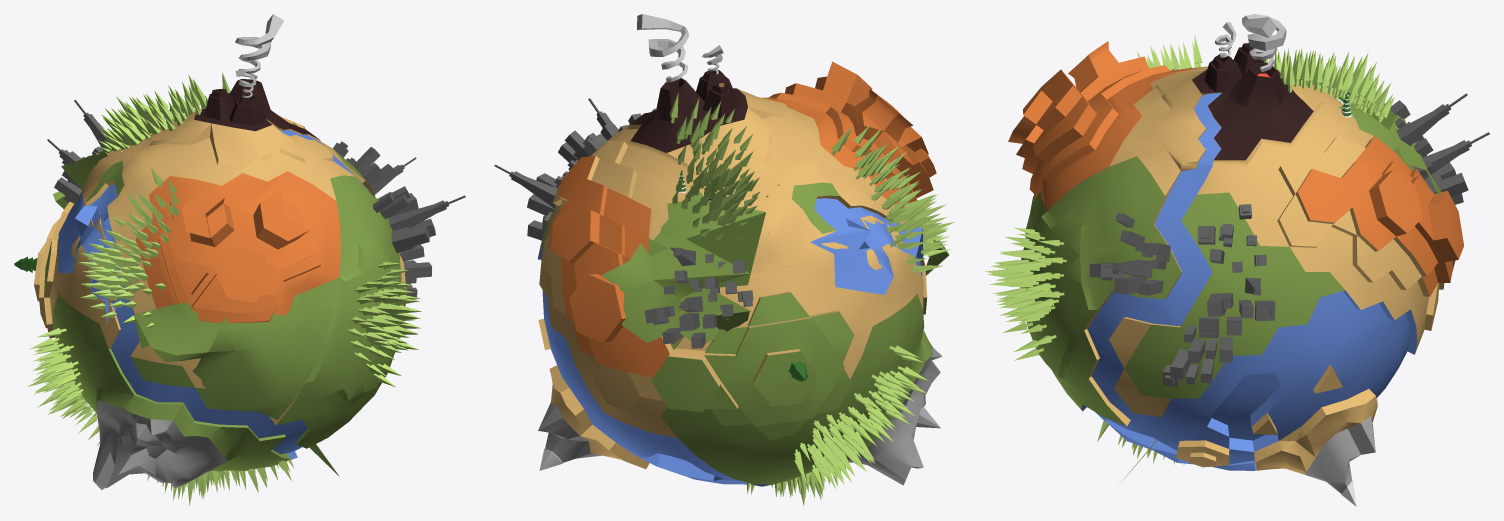
3 renders of one model, left to right at view 1: azimuth 30°, elevation 25°; view 2: azimuth 150°, elevation 25°; view 3: azimuth 270°, elevation 25°, orthographic. The views are drawn at different scales.
Parts seen in each view (by area): view 1: Grass, Rocky Mountains, Ground, Grass 2, Forest, Mountains, City, Water, Forest 2, Forest 1, Volcano, Water 1 (+3 smaller); view 2: Ground, Grass, Rocky Mountains, Grass 1, City, Water, Forest, Forest 1, Mountains, Forest 2, Volcano, Water 1 (+2 smaller); view 3: Ground, Grass, Water, Rocky Mountains, City, Volcano, Forest, Forest 1, Mountains, Smoke, Grass 1, Forest 2.
Part boxes in pixels (x1,y1,x2,y2): Grass: [44, 149, 405, 471]; Rocky Mountains: [135, 171, 340, 322]; Ground: [34, 111, 406, 424]; Grass 2: [134, 295, 308, 419]; Forest: [27, 262, 421, 445]; Mountains: [93, 400, 227, 489]; City: [47, 99, 465, 297]; Water: [89, 130, 369, 459]; Forest 2: [78, 167, 179, 327]; Forest 1: [94, 72, 230, 166]; Volcano: [194, 79, 319, 139]; Water 1: [58, 193, 124, 342]; Ground: [538, 83, 927, 468]; Grass: [541, 182, 932, 484]; Rocky Mountains: [548, 61, 936, 377]; Grass 1: [602, 185, 765, 343]; City: [494, 98, 753, 348]; Water: [537, 198, 923, 486]; Forest: [794, 345, 928, 490]; Forest 1: [670, 92, 779, 239]; Mountains: [538, 347, 942, 485]; Forest 2: [831, 124, 954, 272]; Volcano: [629, 70, 747, 152]; Water 1: [810, 214, 923, 294]; Ground: [1084, 66, 1455, 474]; Grass: [1020, 148, 1414, 425]; Water: [1081, 93, 1417, 470]; Rocky Mountains: [1008, 41, 1463, 296]; City: [1089, 93, 1489, 386]; Volcano: [1192, 43, 1313, 160]; Forest: [985, 227, 1066, 360]; Forest 1: [1263, 48, 1394, 122]; Mountains: [1304, 416, 1375, 493]; Smoke: [1215, 14, 1286, 71]; Grass 1: [1119, 103, 1441, 484]; Forest 2: [1137, 34, 1202, 70].
Bounding box in the file's own units: 0.1804 × 0.1966 × 0.1801.
